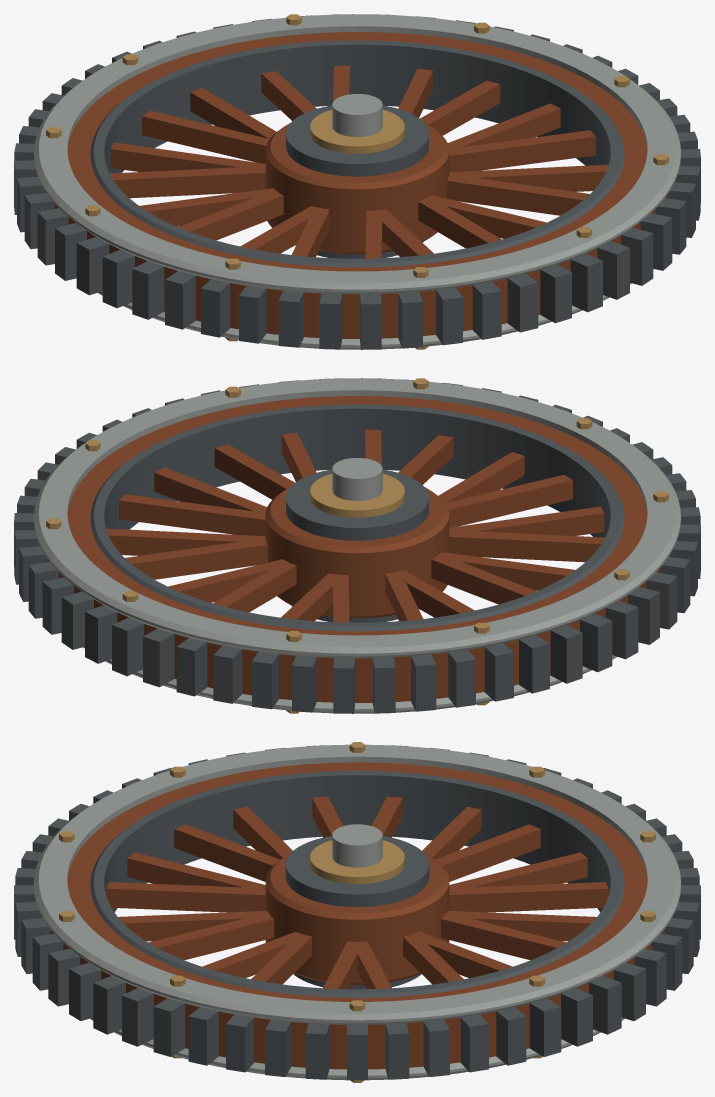
The model's file is crankwheel.glb.
The picture shows the model from 3 angles, top to bottom: view 1: azimuth 30°, elevation 25°; view 2: azimuth 150°, elevation 25°; view 3: azimuth 270°, elevation 25°; orthographic projection.
Parts seen in each view (by area): view 1: Crankwheel; view 2: Crankwheel; view 3: Crankwheel.
Part boxes in pixels (x1=…): Crankwheel: x1=14, y1=14, x2=700, y2=349; Crankwheel: x1=14, y1=378, x2=700, y2=713; Crankwheel: x1=14, y1=742, x2=700, y2=1082.
Bounding box in the file's own units: 9.87 × 2.46 × 9.87.
